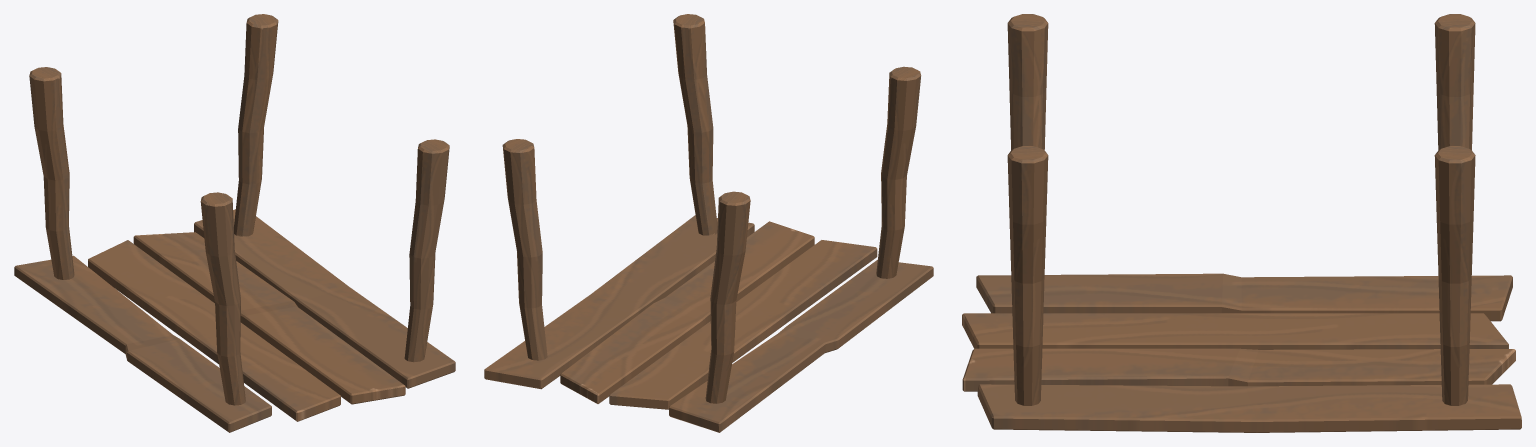
Rendered from Base_Tronco.fbx.
3 renders of one model, left to right at view 1: azimuth 30°, elevation 25°; view 2: azimuth 150°, elevation 25°; view 3: azimuth 270°, elevation 25°, orthographic. The views are drawn at different scales.
Visible parts, largest first — view 1: Base_tronco; view 2: Base_tronco; view 3: Base_tronco.
Part boxes in pixels (box(x1,y1,x2,y2)): Base_tronco: box(14, 14, 455, 432); Base_tronco: box(484, 14, 933, 432); Base_tronco: box(962, 14, 1521, 432).
Size of the model in its own units: 119 by 103 by 189.
